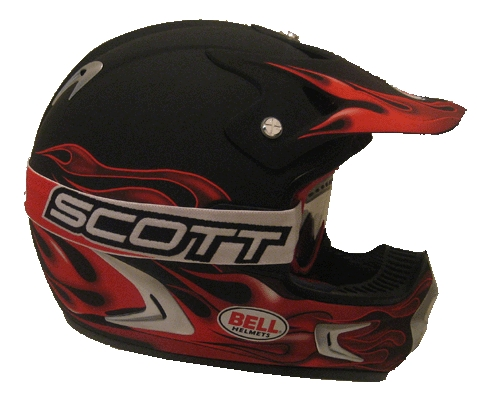helmet: (66, 22, 430, 374)
